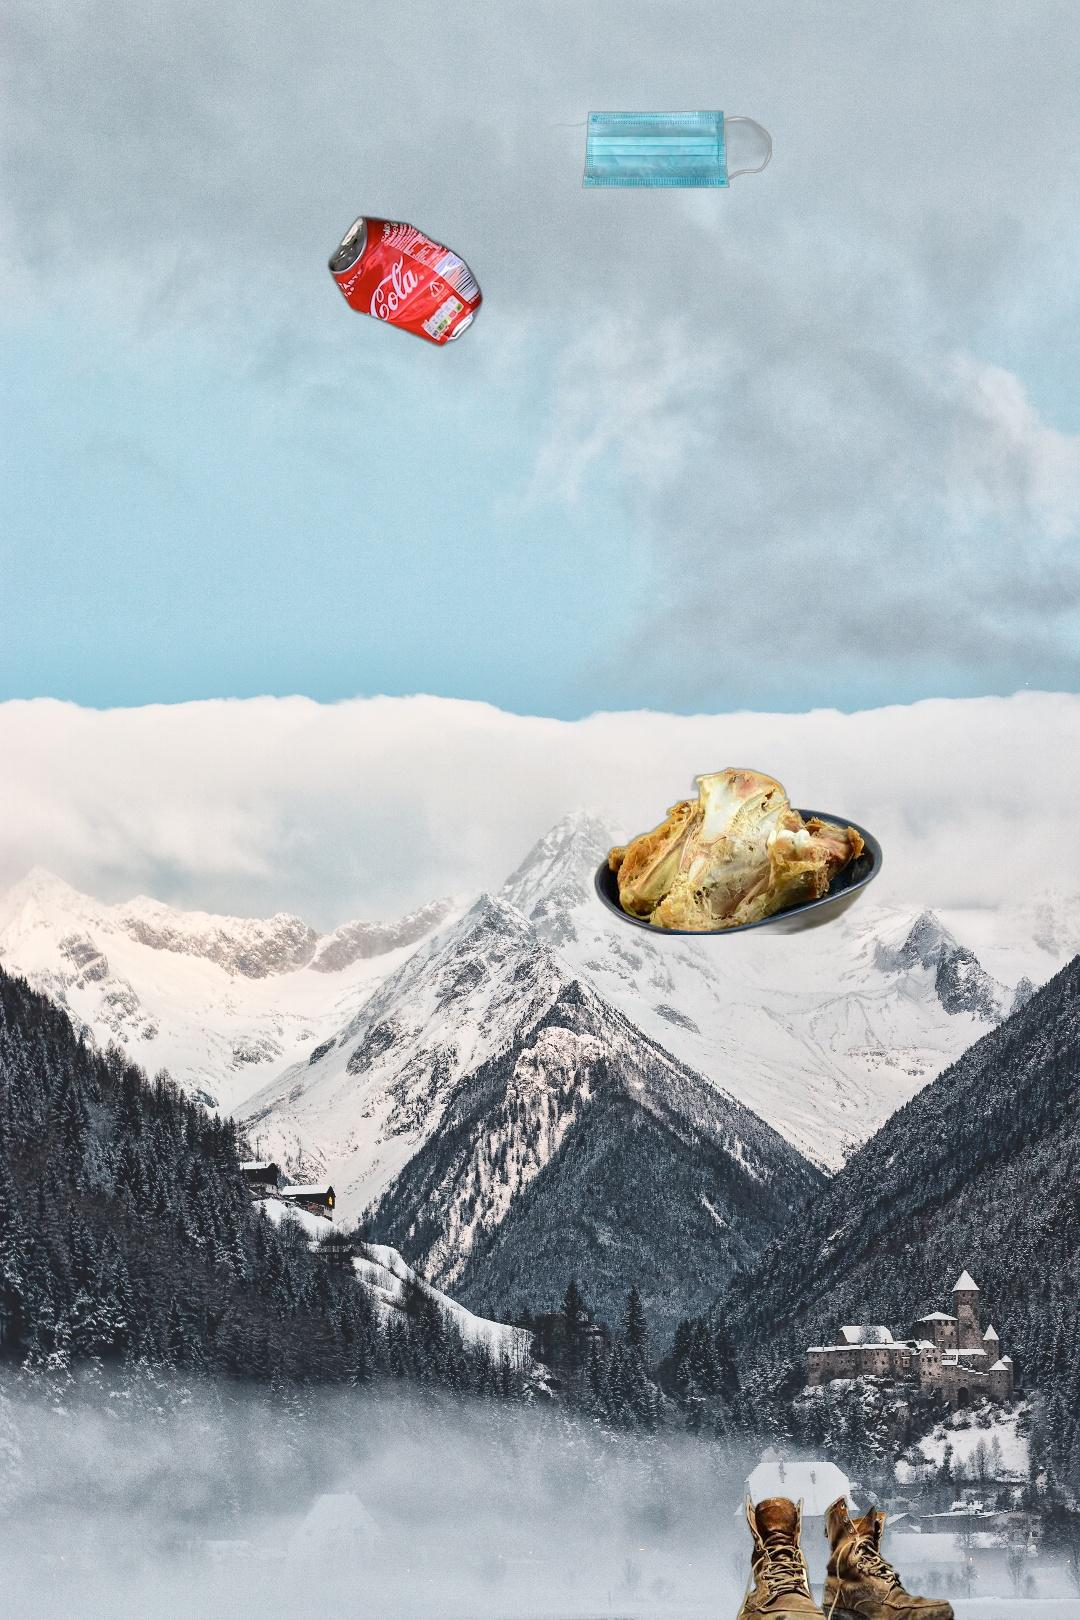biological: (591, 767, 887, 935)
metal-cans: (325, 211, 487, 352)
shoes: (724, 1490, 961, 1620)
trash: (547, 108, 771, 190)
